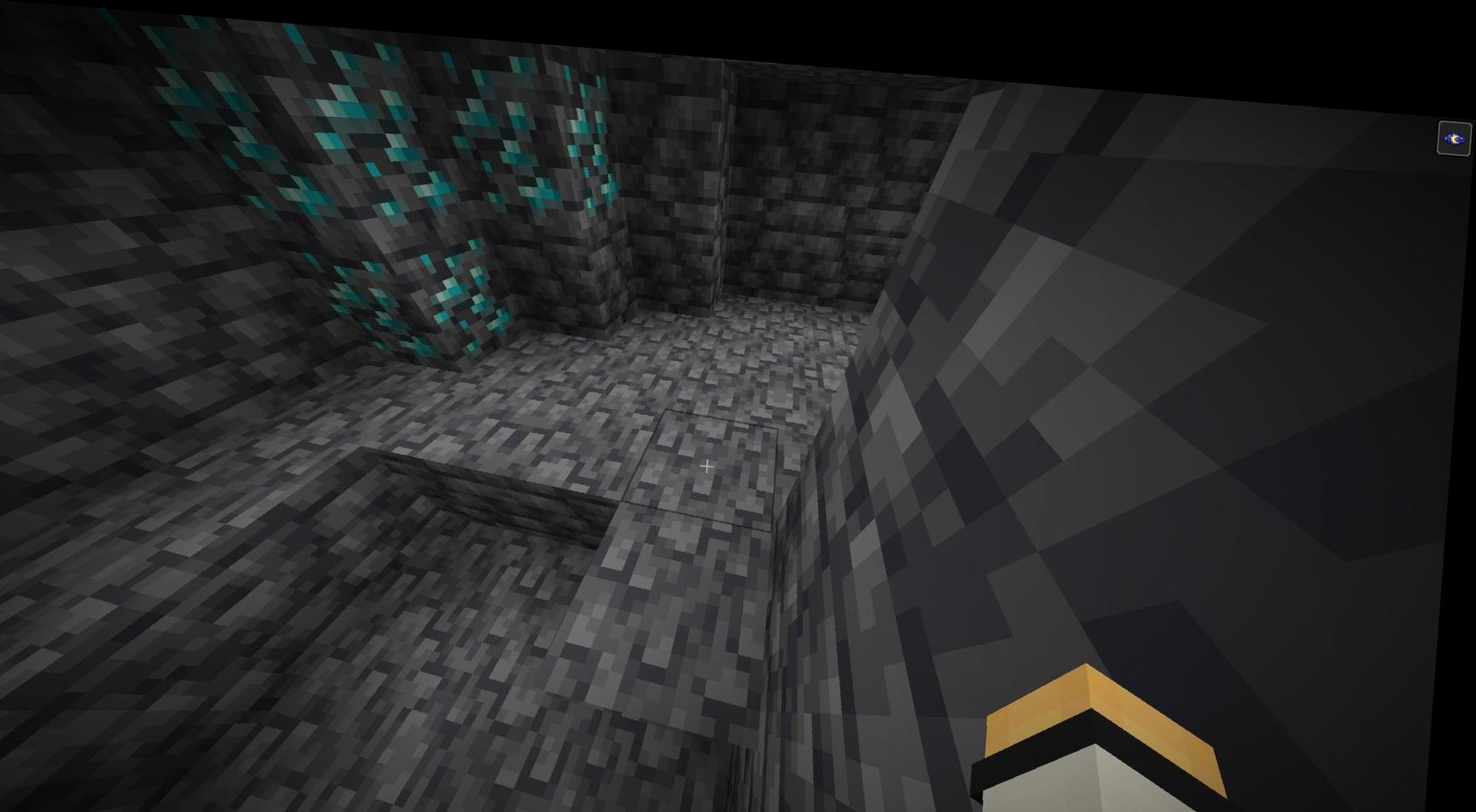diamond ore: (95, 7, 440, 225), (422, 35, 633, 212), (306, 228, 457, 364), (401, 218, 526, 355)
